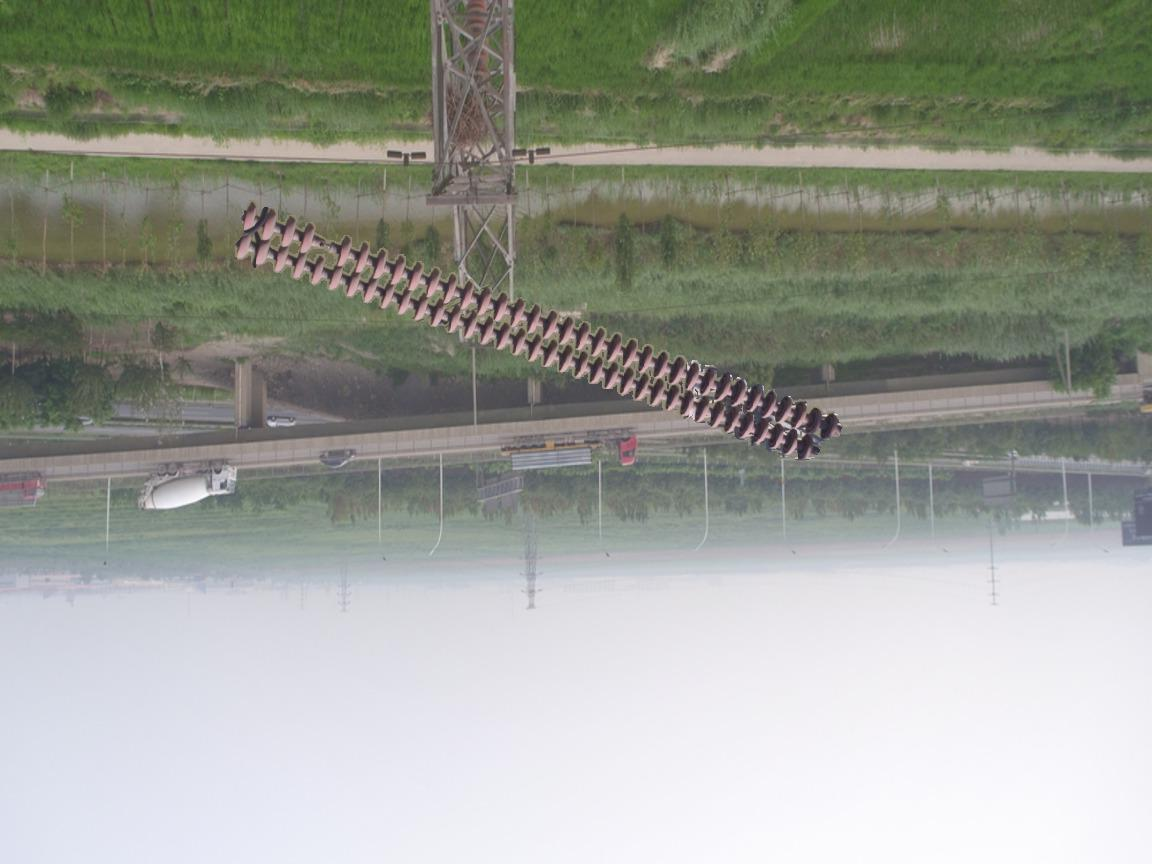insulator: (227, 197, 847, 464), (464, 1, 491, 72)
insulator_stringdrop: (297, 219, 355, 270)
